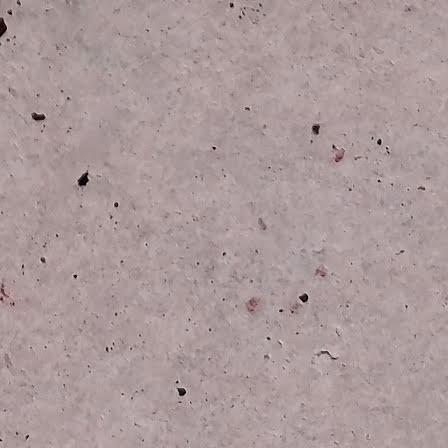spalling: (325, 142, 348, 165)
